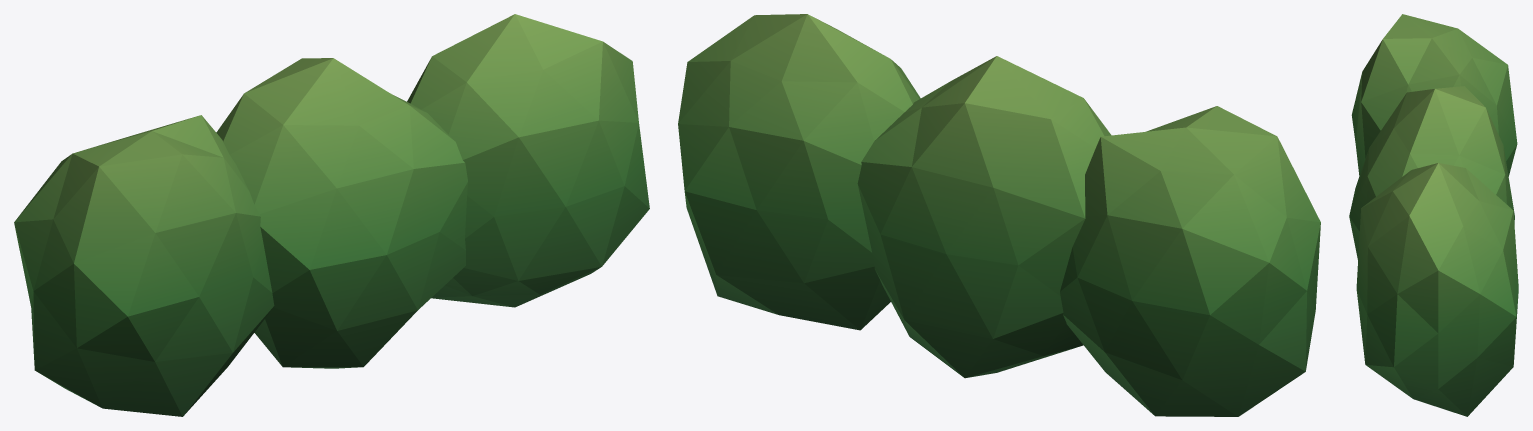
Rendered from hedge.glb.
3 renders of one model, left to right at view 1: azimuth 30°, elevation 25°; view 2: azimuth 150°, elevation 25°; view 3: azimuth 270°, elevation 25°, orthographic. The views are drawn at different scales.
Parts seen in each view (by area): view 1: hedge; view 2: hedge; view 3: hedge.
Part boxes in pixels (left/top/right/bottom): hedge: left=14, top=14, right=649, bottom=416; hedge: left=678, top=14, right=1320, bottom=416; hedge: left=1349, top=14, right=1518, bottom=416.
Size of the model in its own units: 8.87 by 4.37 by 2.68.
1 material, 1 textured.
